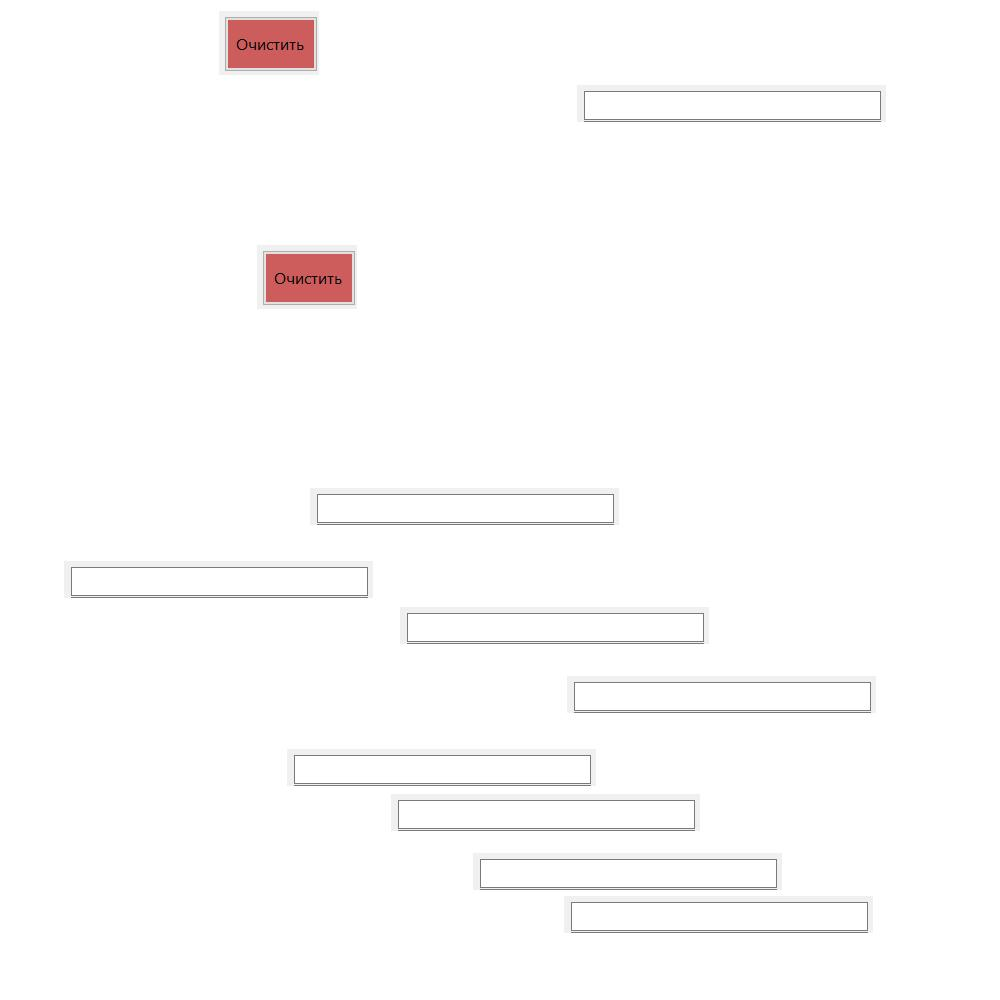Button: (257, 245, 357, 309), (219, 11, 319, 75)
EditText-: (391, 794, 700, 831), (310, 488, 619, 525), (567, 676, 876, 713), (287, 749, 596, 786), (64, 561, 373, 598), (577, 85, 886, 122), (564, 896, 873, 933), (400, 607, 709, 644), (473, 853, 782, 890)
